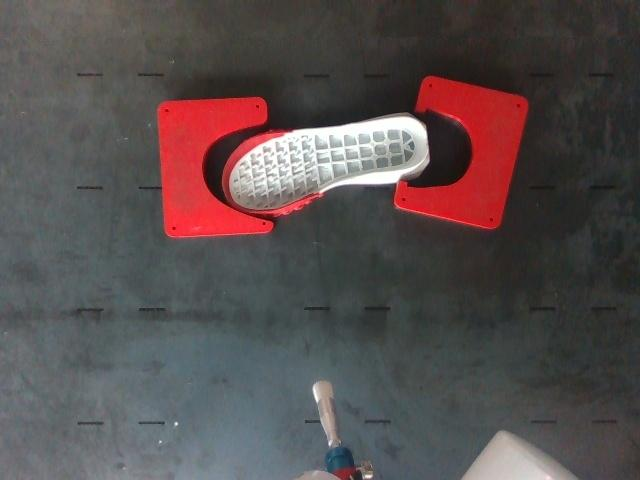shoes: (222, 116, 429, 212)
